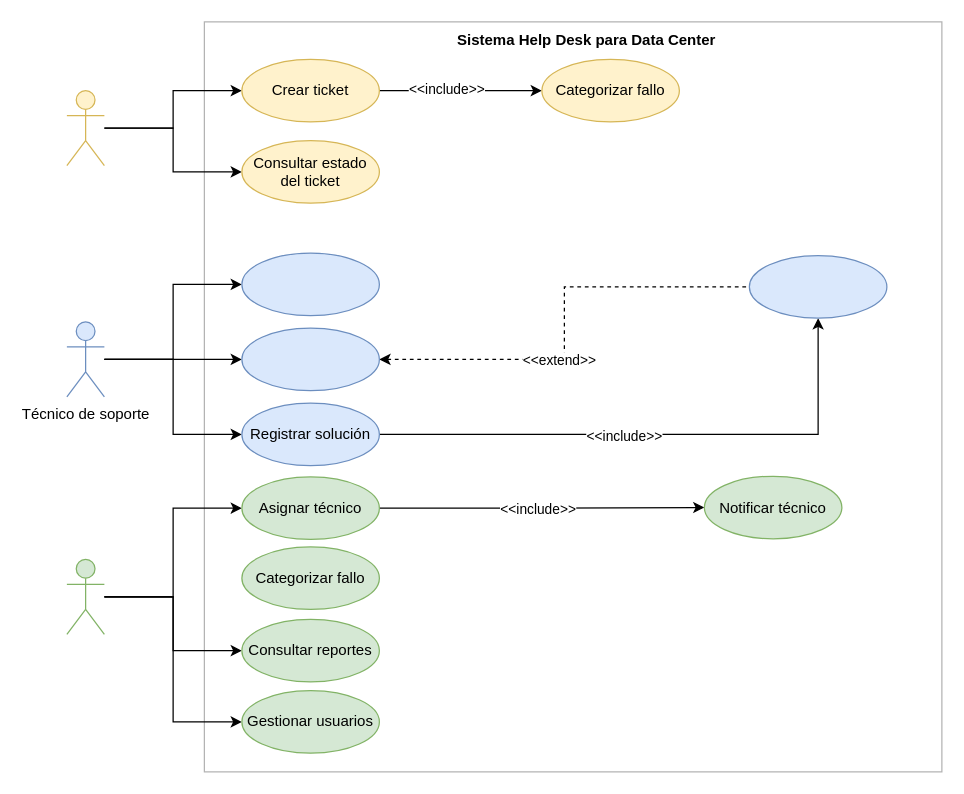
This 964x794 diagram has some shape labels left out. Each missing label, with the box of its shape:
Actualizar estado del ticket: (241, 327, 379, 391)
Administrador de Sistemas: (66, 558, 104, 634)
Cerrar incidente: (748, 254, 887, 318)
Consultar tickets asignados: (241, 252, 379, 316)
Usuario final: (66, 89, 104, 166)
